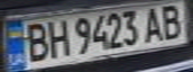2: (106, 9, 127, 50)
3: (121, 7, 145, 47)
4: (90, 11, 112, 52)
9: (69, 13, 93, 55)
A: (139, 3, 169, 43)
B: (18, 20, 51, 63), (157, 2, 187, 40)
H: (42, 17, 72, 59)
